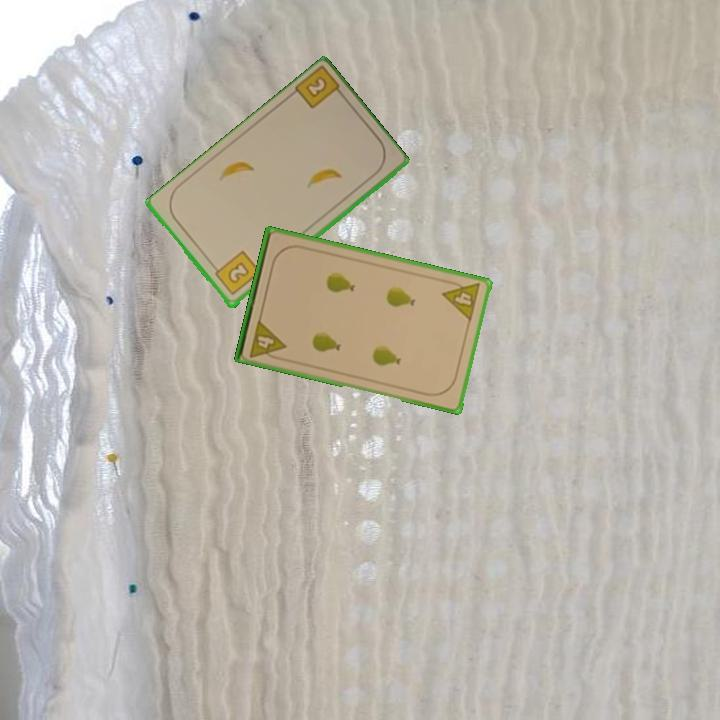2b: (291, 64, 348, 112), (209, 248, 263, 298)
4p: (439, 276, 483, 324), (246, 316, 288, 363)
